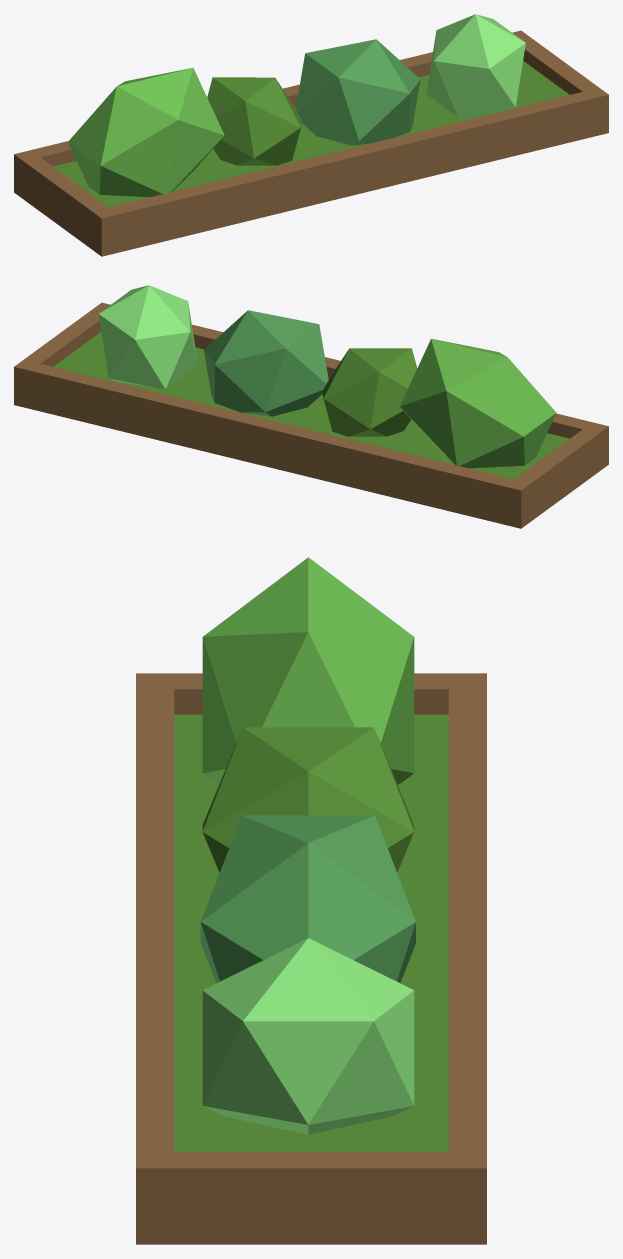
File: Potted Plant 5.fbx
3 views of the same model, one above another, from view 1: azimuth 30°, elevation 25°; view 2: azimuth 150°, elevation 25°; view 3: azimuth 270°, elevation 25° (orthographic). The views are drawn at different scales.
Parts seen in each view (by area): view 1: Potted plant 5; view 2: Potted plant 5; view 3: Potted plant 5.
Boxes of the visible parts, x1,y1,x2,y2 form: Potted plant 5: [14, 14, 608, 256]; Potted plant 5: [14, 285, 608, 528]; Potted plant 5: [136, 557, 486, 1244].
Size of the model in its own units: 334 by 78.43 by 100.
1 material, 1 textured.
